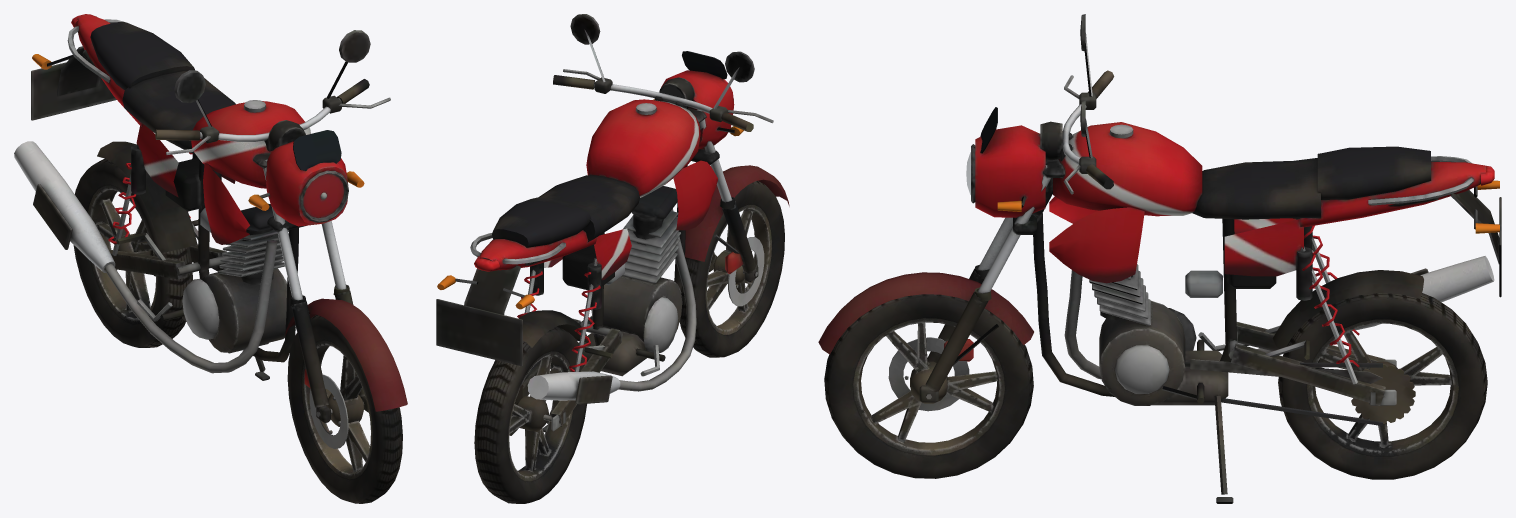
File: motorbike.glb
The picture shows the model from 3 angles, left to right: view 1: azimuth 30°, elevation 25°; view 2: azimuth 150°, elevation 25°; view 3: azimuth 270°, elevation 25°; orthographic projection. The views are drawn at different scales.
Parts seen in each view (by area): view 1: body, steer, wheel_F, wheel_R, glass; view 2: body, steer, wheel_R, wheel_F; view 3: body, wheel_F, wheel_R, steer.
Part boxes in pixels (x1,y1,x2,y2): body: [14, 14, 310, 380]; steer: [155, 30, 407, 422]; wheel_F: [287, 315, 402, 503]; wheel_R: [73, 158, 192, 347]; glass: [304, 174, 343, 217]; body: [436, 99, 717, 435]; steer: [553, 14, 789, 282]; wheel_R: [474, 326, 586, 503]; wheel_F: [679, 180, 784, 357]; body: [1032, 122, 1501, 503]; wheel_F: [824, 294, 1033, 478]; wheel_R: [1278, 293, 1487, 479]; steer: [818, 14, 1114, 402].
Size of the model in its own units: 0.8024 by 1.34 by 1.99.
Materials: 2 (1 with a texture image).
